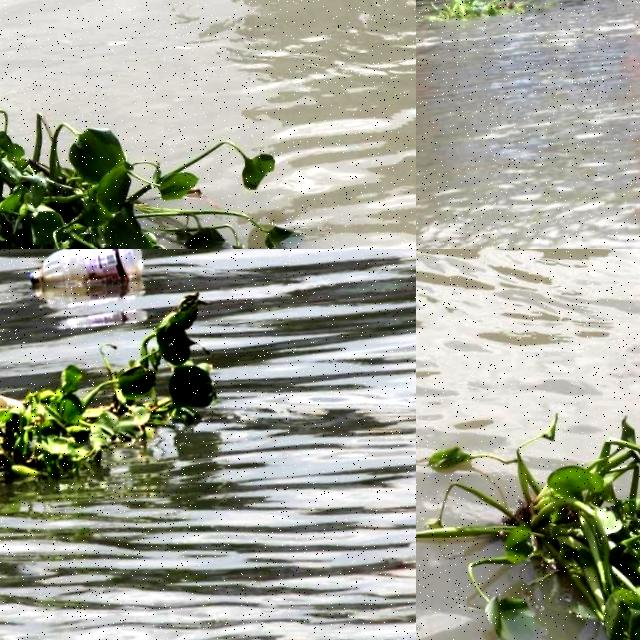plastic bottle: (24, 248, 152, 282)
water-hyacinth: (417, 390, 640, 640), (1, 286, 235, 517), (1, 81, 307, 250), (422, 1, 531, 27)
